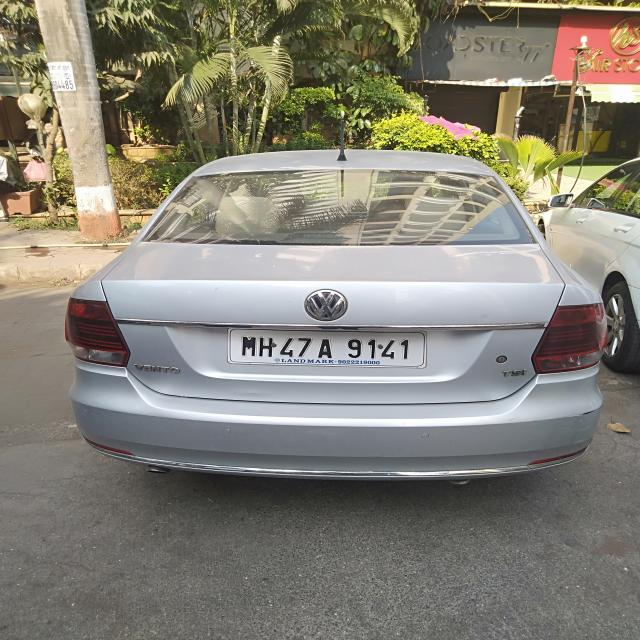Number-Plate: (224, 331, 428, 368)
